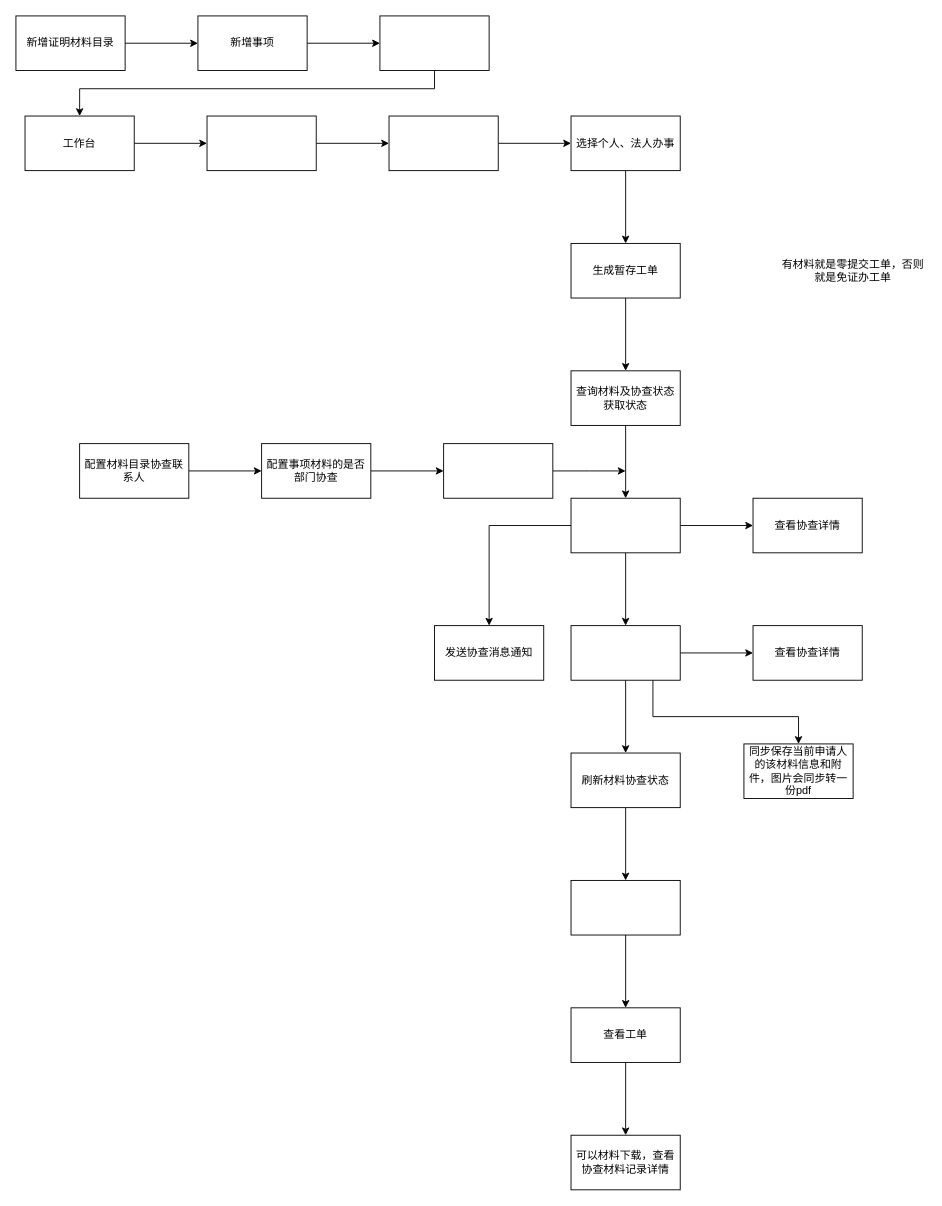
Some shapes in this 942 by 1206 pixel diagram are drawn without their labels. The shapes that lost their labels are listed below. From the top down, each one's centre as x and y in pixels, then its label:
point 434,43: 关联证明材料目录
point 261,143: 选择事项
point 443,143: 输入身份证号
point 498,470: 已配置协查联系人，是部门协查
point 625,525: 发起协查
point 625,652: 处理协查记录
point 625,907: 保存零提交工单
